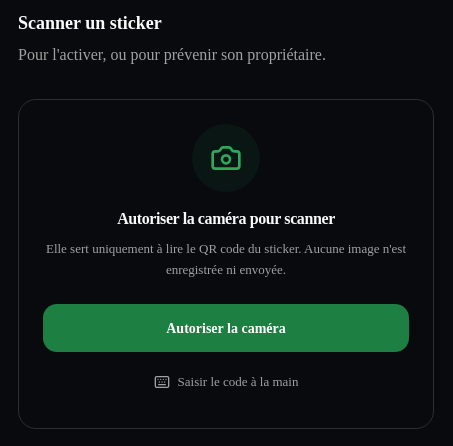
Scenario: ScanPage › refuses a code that belongs to no sticker, on the field
Click the button "Saisir le code à la main" at (226, 382), box top-left (43, 360), bottom-right (409, 404)
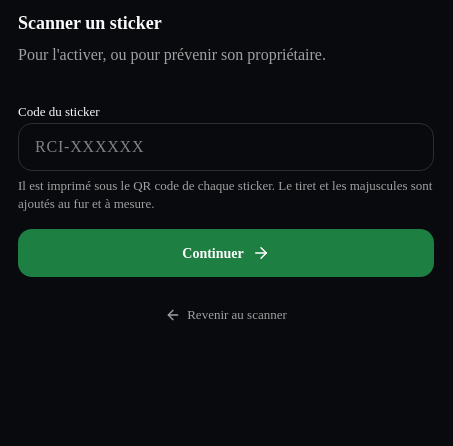
Type "HELLO" into the field labelled "Code du sticker" at (226, 147), box top-left (18, 123), bottom-right (434, 171)
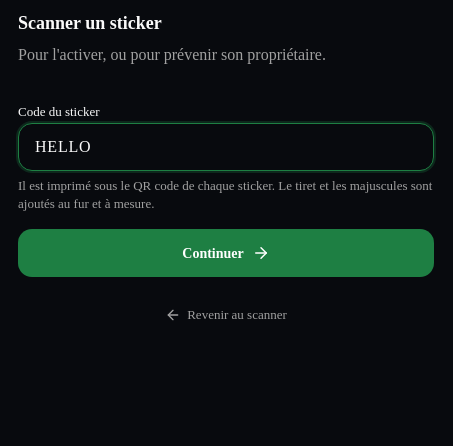
Click the button "Continuer" at (226, 253), box top-left (18, 229), bottom-right (434, 277)
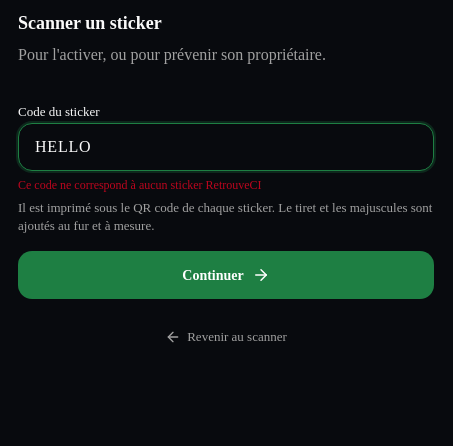
Expected: the text "Ce code ne correspond à aucun sticker RetrouveCI" is shown, top-left (18, 178), bottom-right (262, 192)
